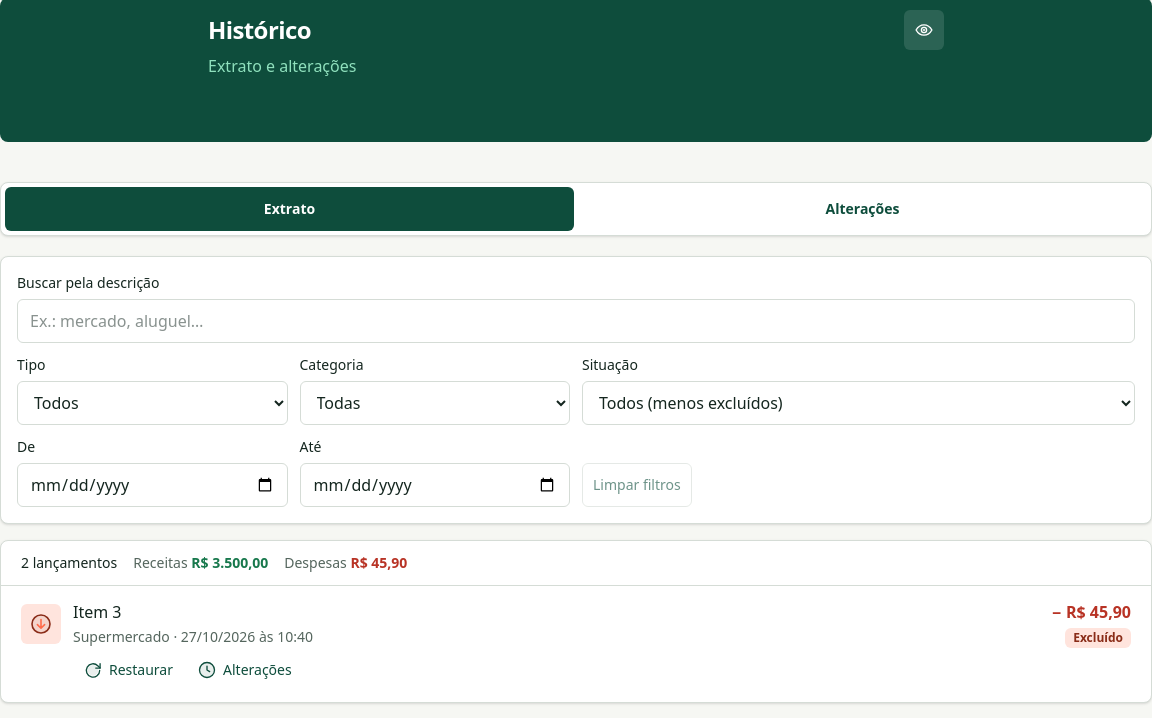
it: Histórico: extrato › o foco não se perde: Limpar filtros leva à busca; restaurar leva ao extrato
Expected: the text "Item 3" is shown, [73,601,122,623]
Select "Despesas" in the dropdown labelled "Tipo" at (152,403), box [17,381,288,425]
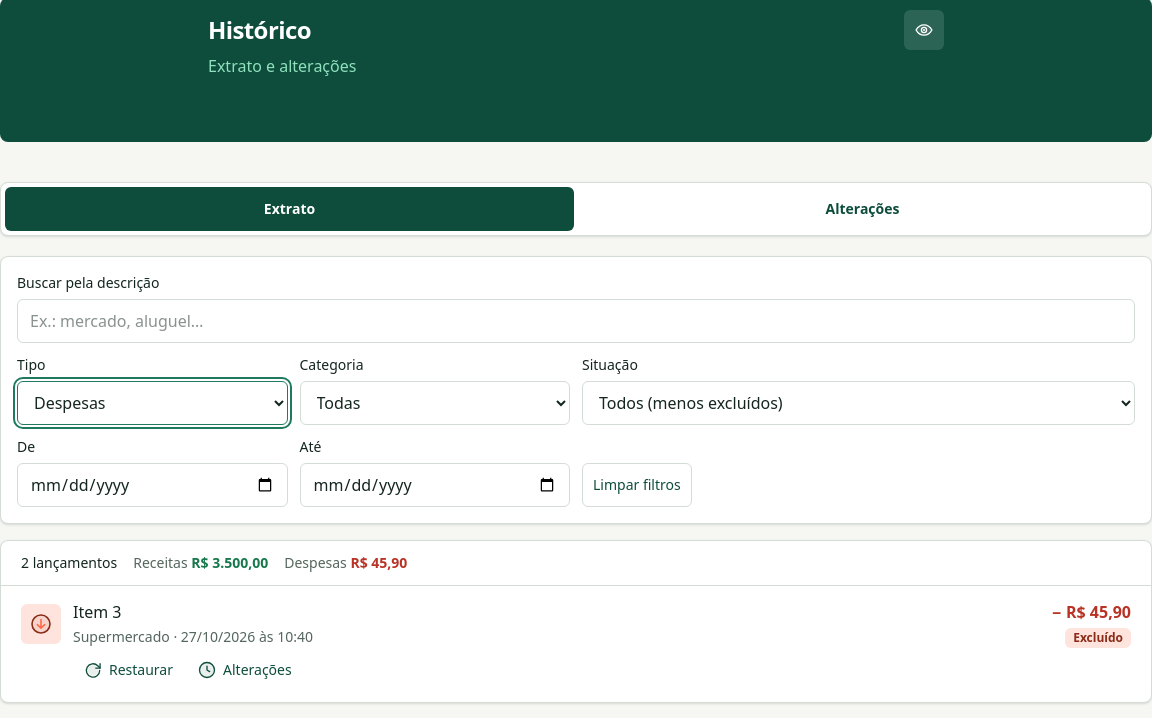
Click the button "Limpar filtros" at (637,485), box [582,463,692,507]
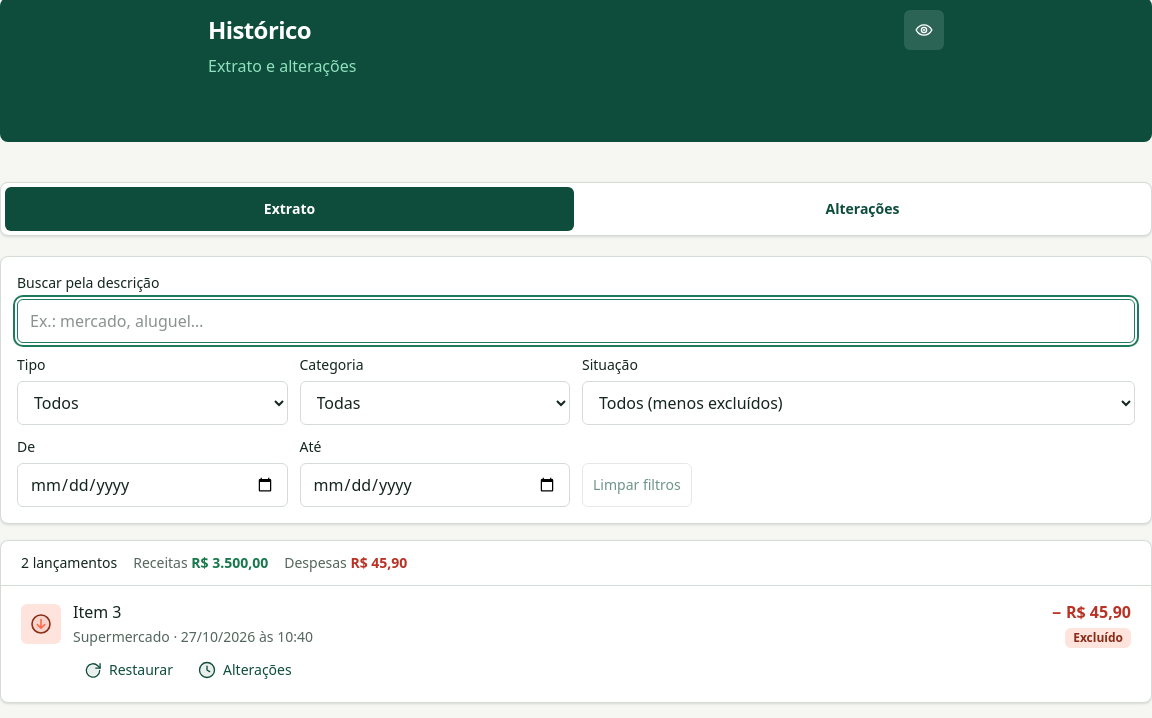
Click the button with aria-label "Restaurar Item 3" at (128,670), box [73,652,183,688]
(page scrolled)
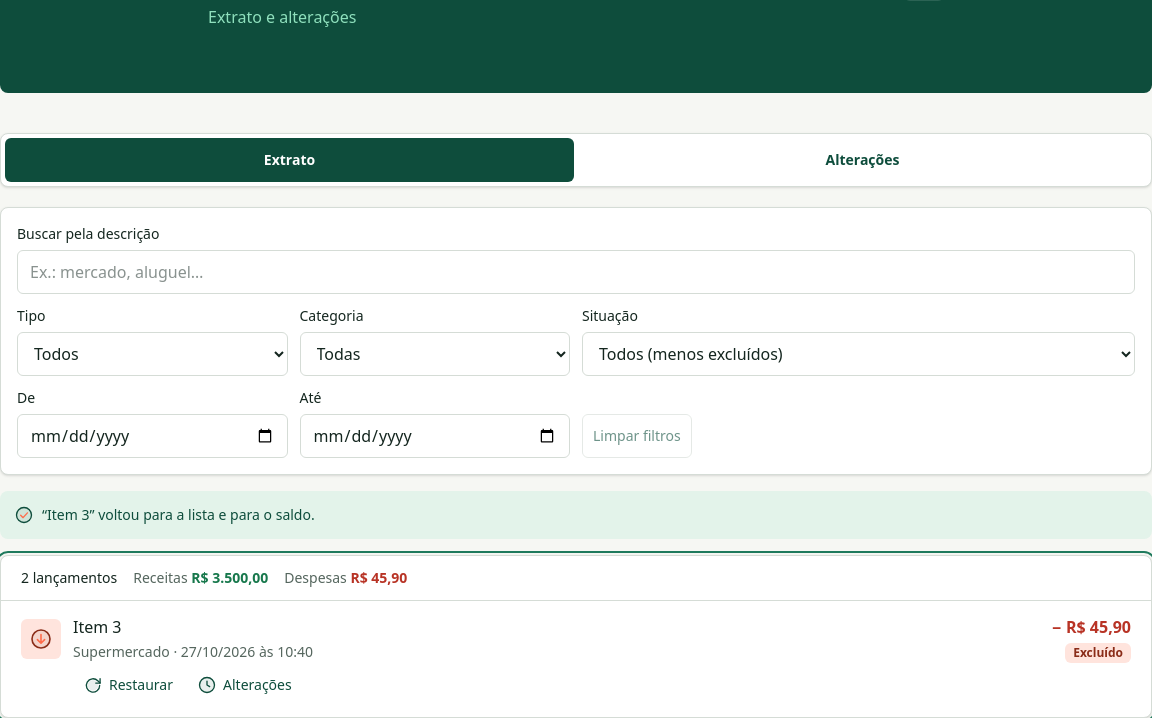
Expected: the text "“Item 3” voltou para a lista e para o saldo." is shown, [0,491,1151,539]
